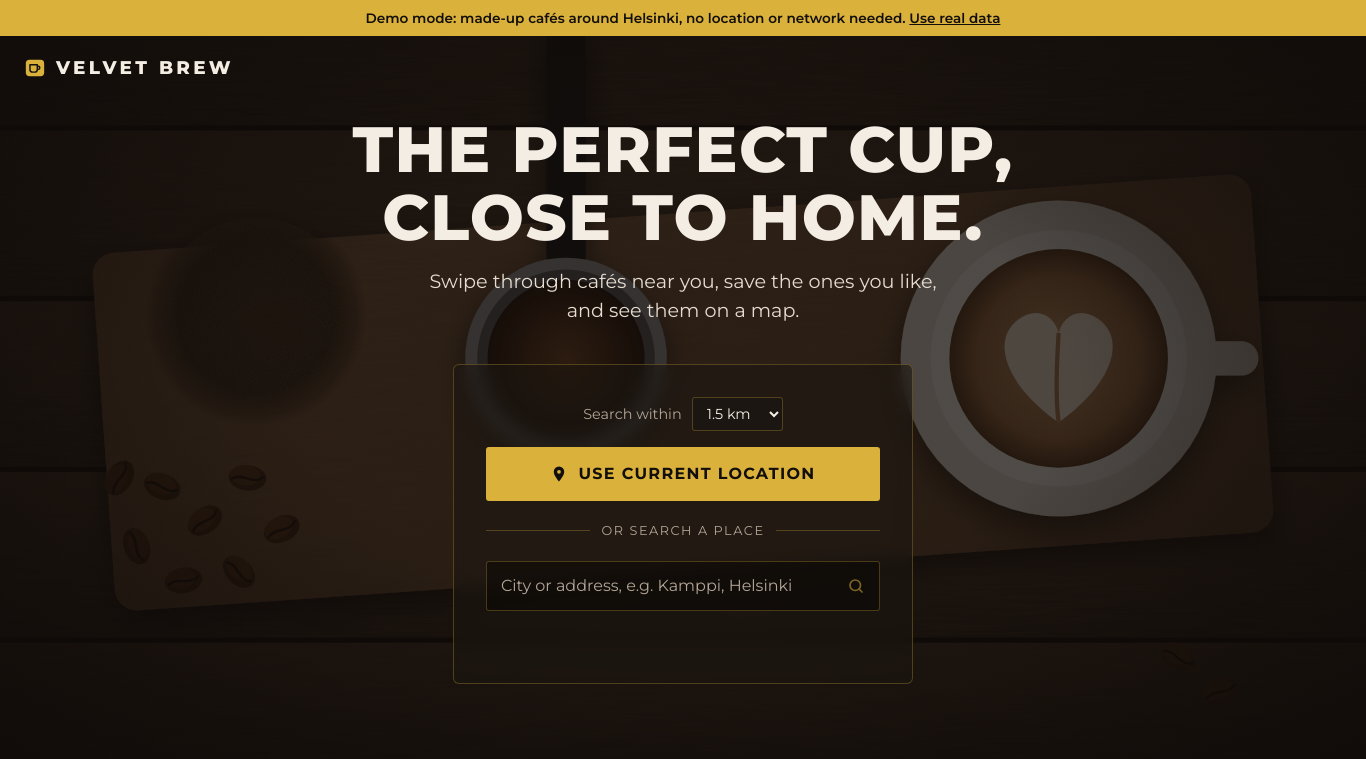
Test: App in demo mode › works without network or location access, and filters by "open now"
Expected: the text "Demo mode" is shown, [366,10,906,26]
What coordinates should you click on to do the following:
click the button "Use current location"
I would click on:
 (683, 474)
Its box is [486,447,880,501].
(page scrolled)
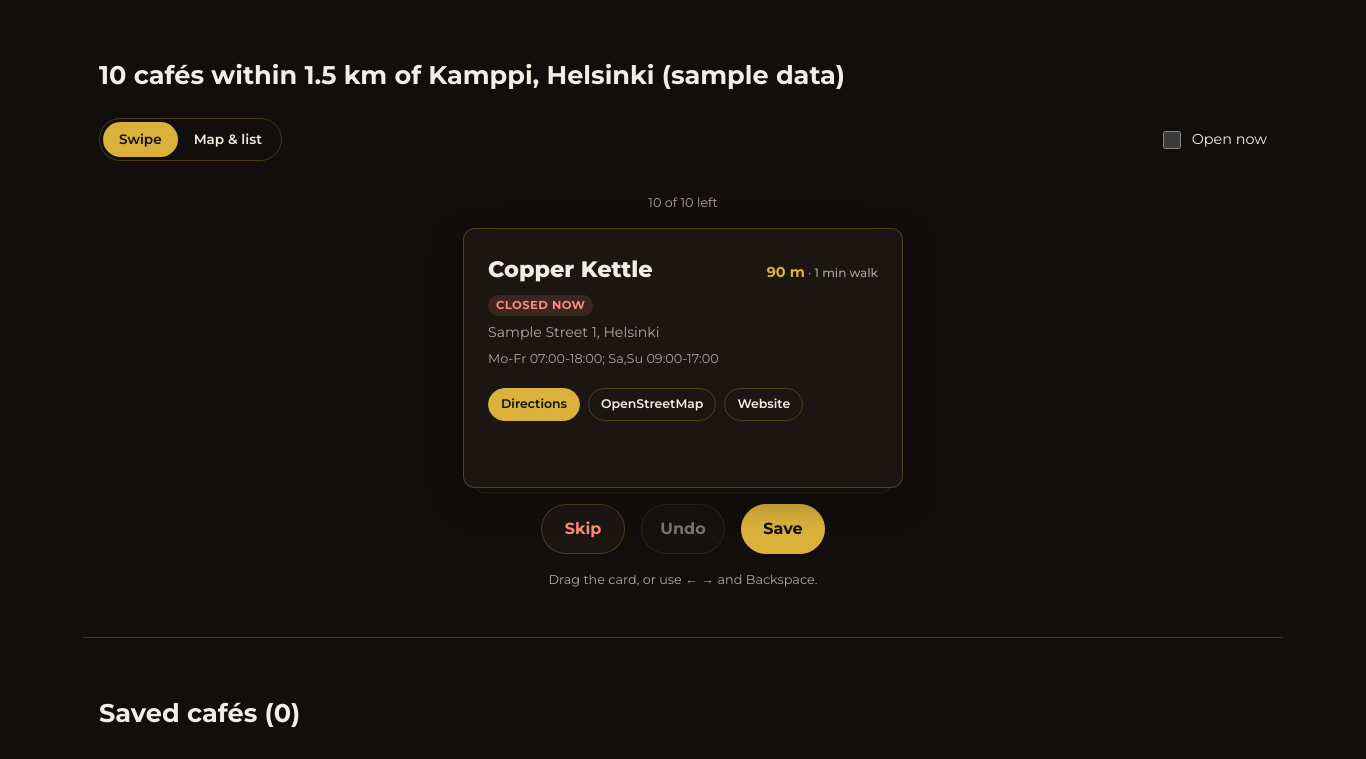
Result: the heading "10 cafés within 1.5 km of Kamppi, Helsinki (sample data)" is shown at [99,59,845,90]
What coordinates should you click on to do the following:
click the checkbox labelled "Open now"
I would click on:
 (1172, 140)
Its box is [1163,131,1181,149].
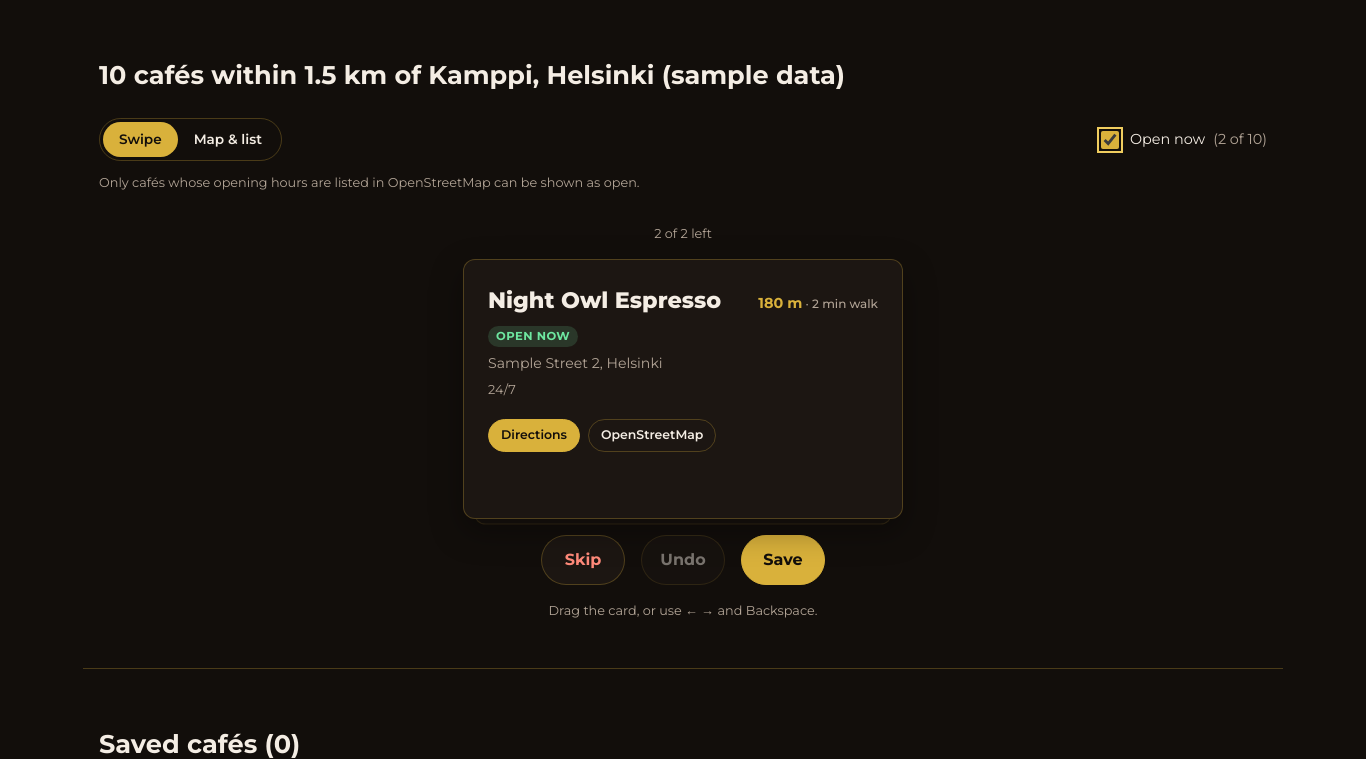
What coordinates should you click on to do the following:
click the button "Map & list"
I would click on:
 (228, 140)
Its box is [178,122,278,157].
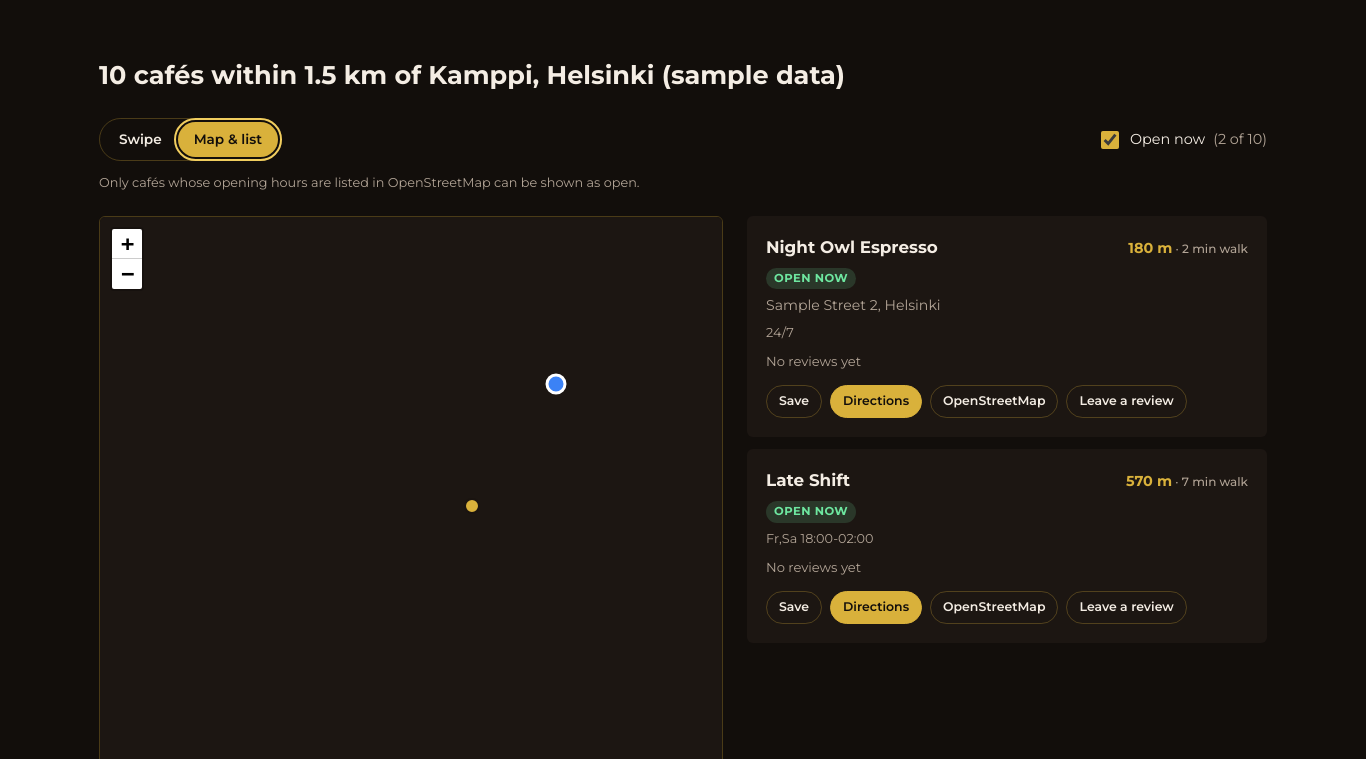
Result: the headings read "Night Owl Espresso", "Late Shift", in this order at [766,235,938,260]; [766,468,850,493]
